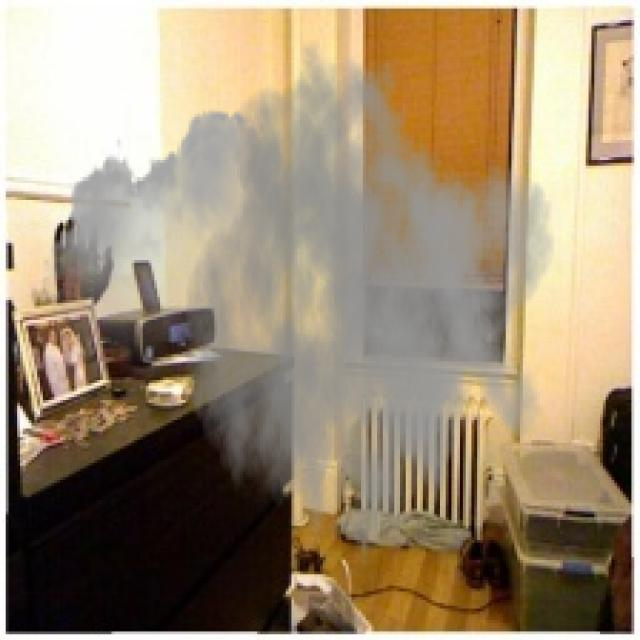smoke: (43, 40, 557, 589)
